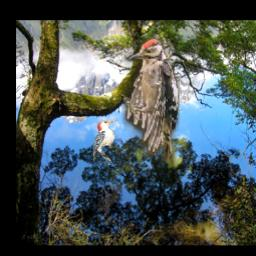Woodpecker: (121, 39, 180, 164), (93, 119, 119, 164)
